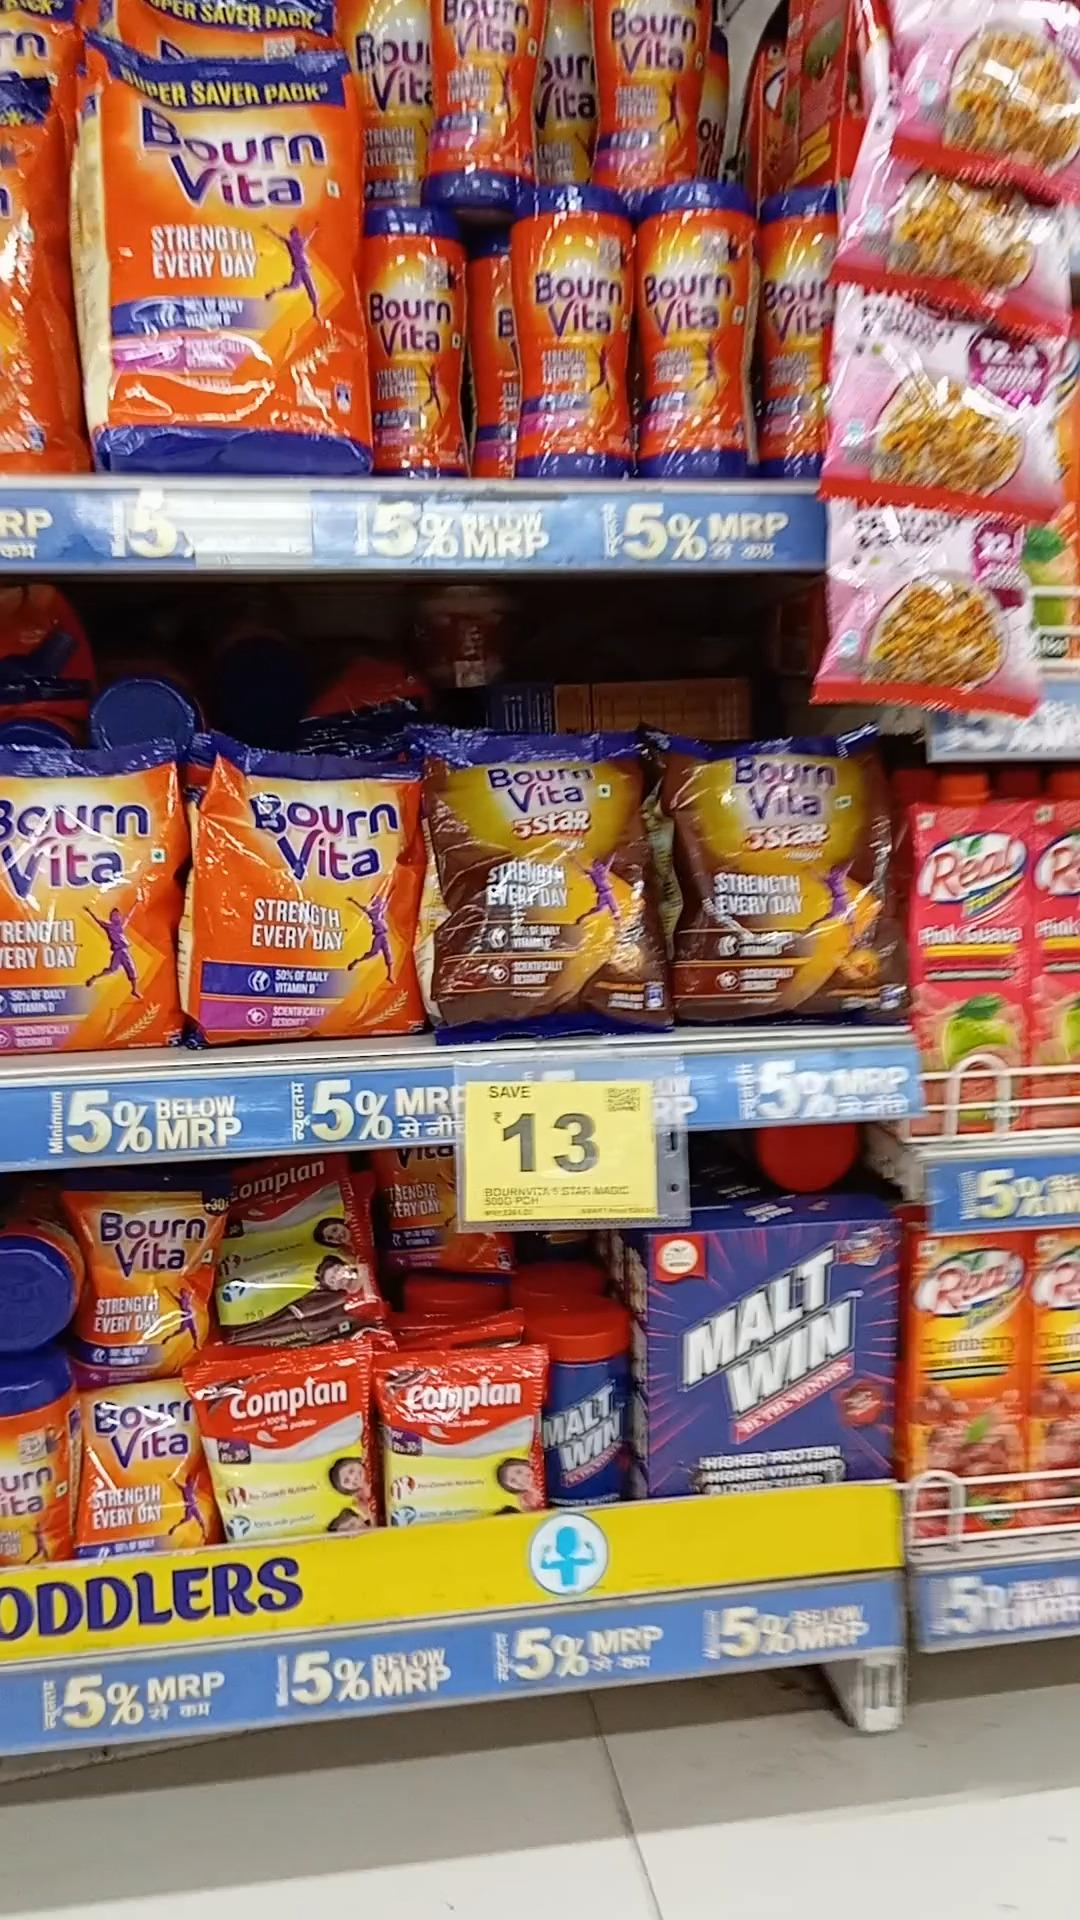BOURN_VITA_1_KG_POUCH: (83, 44, 360, 472)
BOURN_VITA_500_G_JAR: (632, 185, 758, 476), (509, 186, 625, 476), (367, 206, 471, 473), (421, 0, 543, 178), (591, 0, 708, 182)
BOURN_VITA_500_G_POUCH: (190, 742, 429, 1040), (0, 741, 185, 1044)
BOURN_VITA_75_G_POUCH: (73, 1184, 204, 1370), (90, 1378, 218, 1563)
BOURN_VITA_FIVE_STAR_MAGIC_500_G_POUCH: (433, 737, 669, 1038), (674, 736, 903, 1023)
